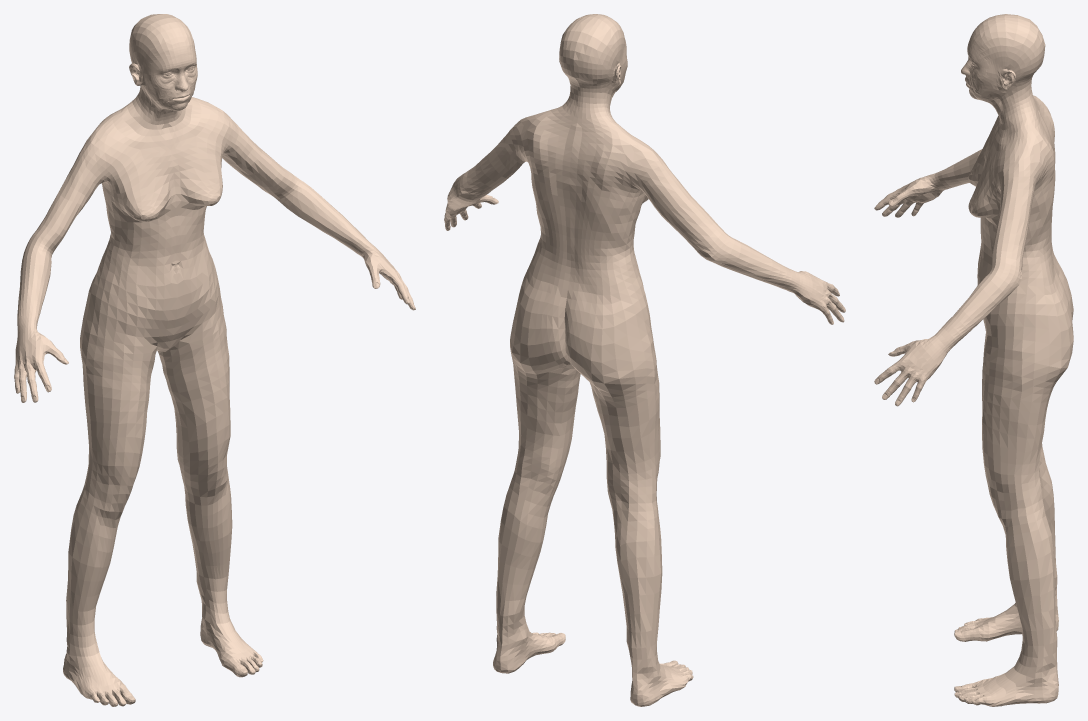
File: female-older-average-medium.glb
3 renders of one model, left to right at view 1: azimuth 30°, elevation 25°; view 2: azimuth 150°, elevation 25°; view 3: azimuth 270°, elevation 25°, orthographic.
Parts seen in each view (by area): view 1: world; view 2: world; view 3: world.
Part boxes in pixels (x1,y1,x2,y2): world: [14, 14, 415, 706]; world: [444, 14, 845, 706]; world: [874, 14, 1073, 706].
Bounding box in the file's own units: 1.13 × 1.8 × 0.5004.
